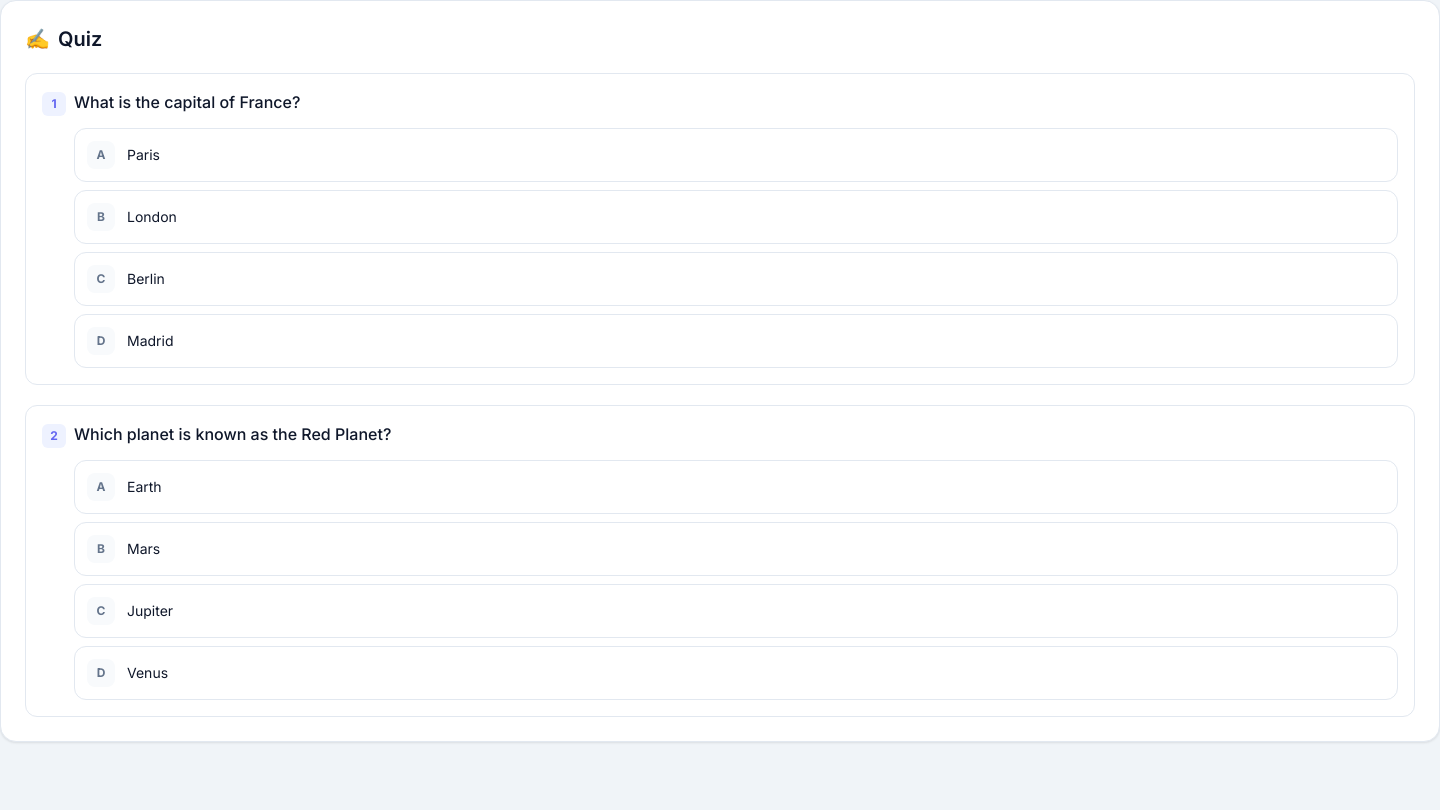
Test case: Quiz Component › allows selecting an answer
This screenshot has width=1440, height=810.
Click the button "A Paris" at point(144, 154), box x1=74 y1=128 x2=1398 y2=182
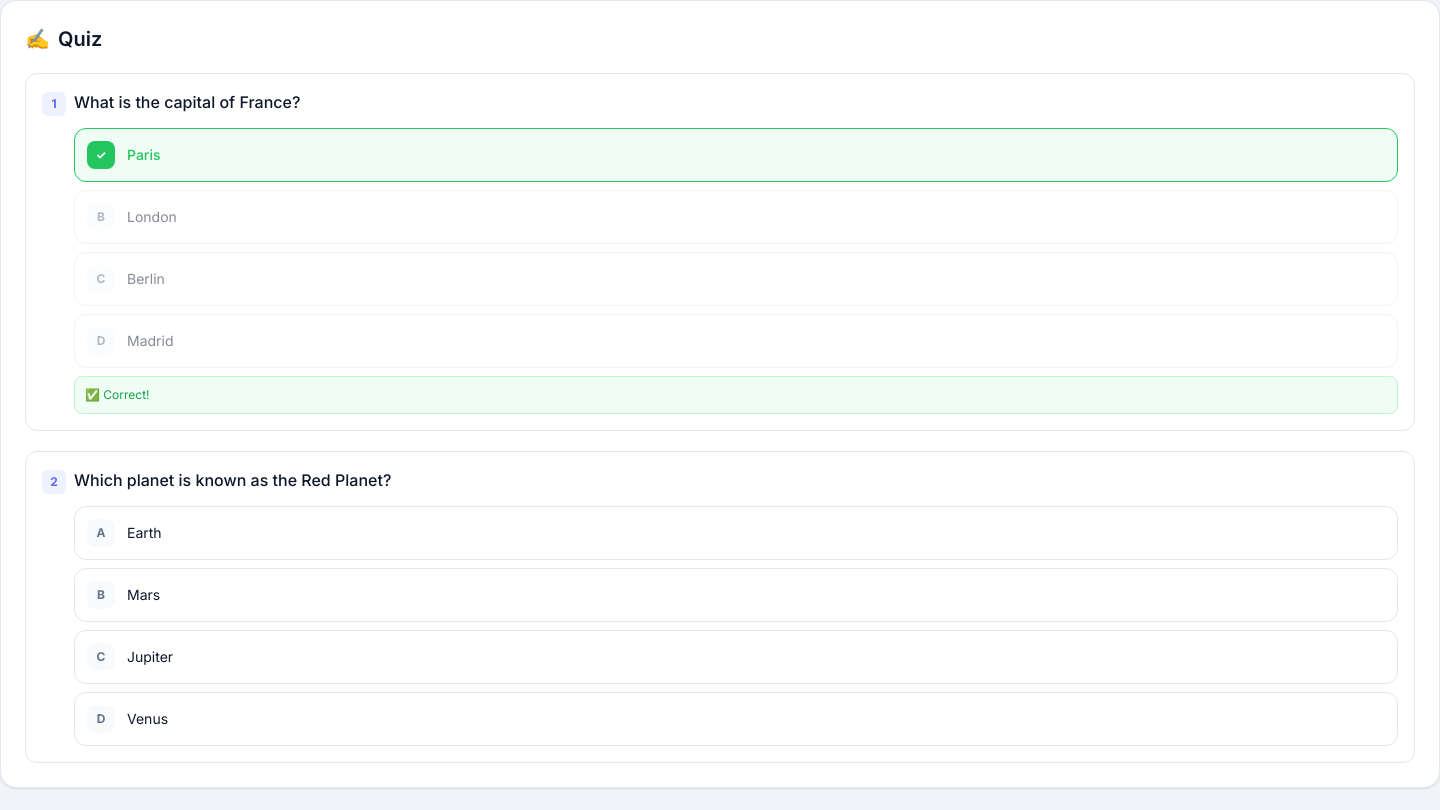
Expected: the button "✓ Paris" is disabled, x1=74 y1=128 x2=1398 y2=182
